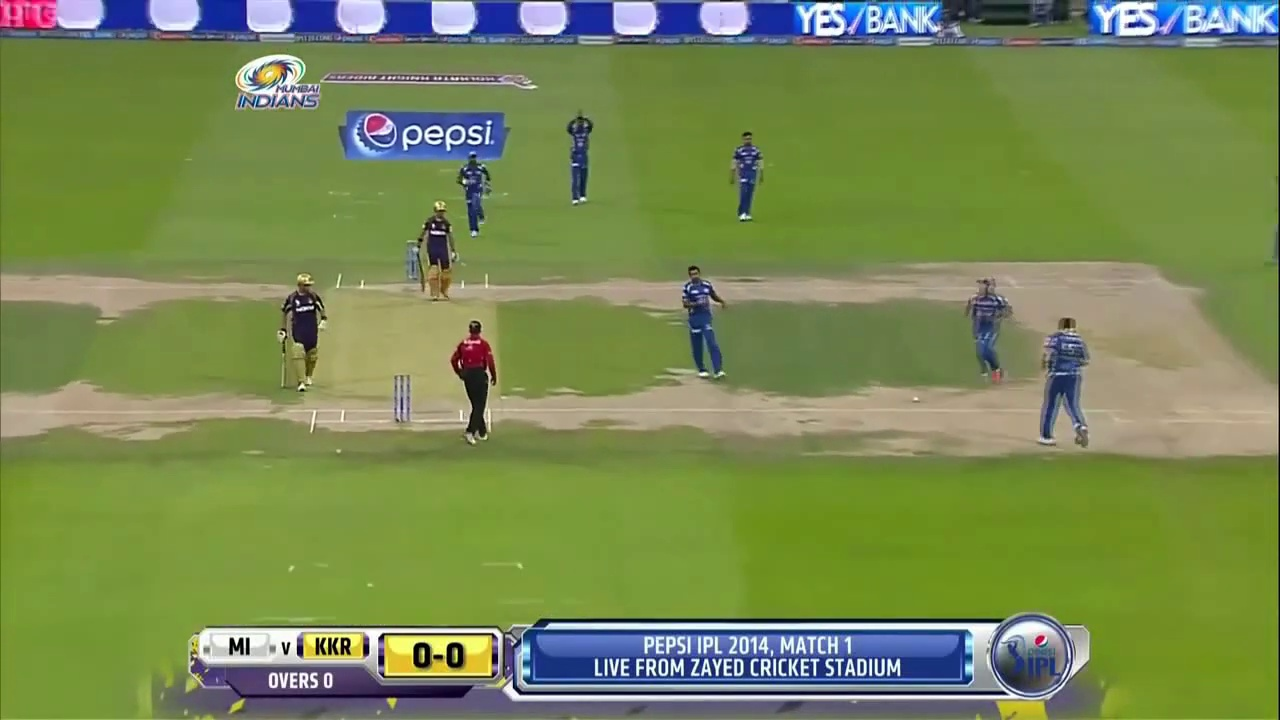bat: (281, 348, 288, 389)
stumps: (392, 373, 412, 424)
